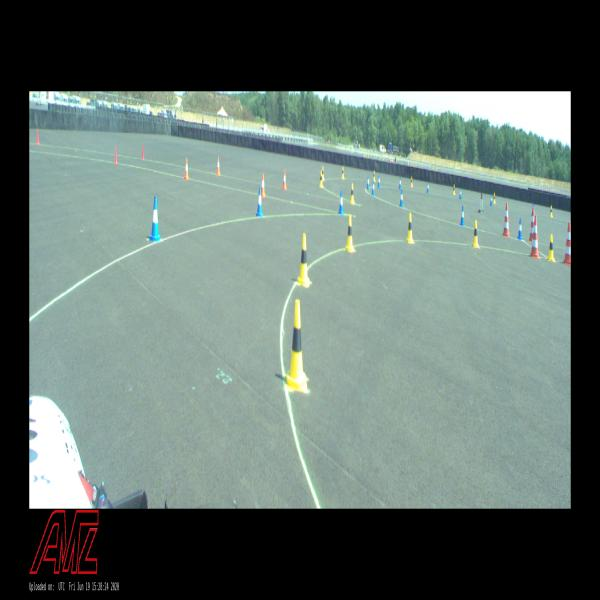blue_cone: (149, 196, 161, 242), (255, 187, 264, 217), (338, 190, 344, 215), (517, 218, 523, 240), (460, 205, 465, 226), (400, 189, 404, 208), (371, 180, 375, 196), (366, 175, 370, 190), (459, 188, 462, 199), (399, 178, 402, 189), (378, 175, 380, 188), (427, 181, 429, 193), (490, 194, 492, 205)
large_orange_cone: (529, 216, 541, 259), (563, 222, 571, 266), (503, 202, 510, 237), (528, 208, 534, 241)
orange_cone: (261, 173, 266, 198), (184, 158, 189, 180), (282, 169, 287, 190), (216, 157, 221, 176)
unknown_cone: (114, 146, 118, 164), (141, 144, 145, 160), (36, 129, 40, 145)
yellow_cone: (285, 300, 307, 392), (297, 233, 311, 287), (345, 214, 355, 252), (406, 213, 415, 243), (548, 234, 556, 262), (472, 221, 479, 247), (350, 183, 355, 204), (320, 171, 324, 187), (322, 166, 325, 181), (373, 170, 376, 182), (410, 176, 413, 187), (453, 184, 456, 195), (550, 206, 553, 217), (493, 193, 496, 204), (342, 166, 344, 180)
